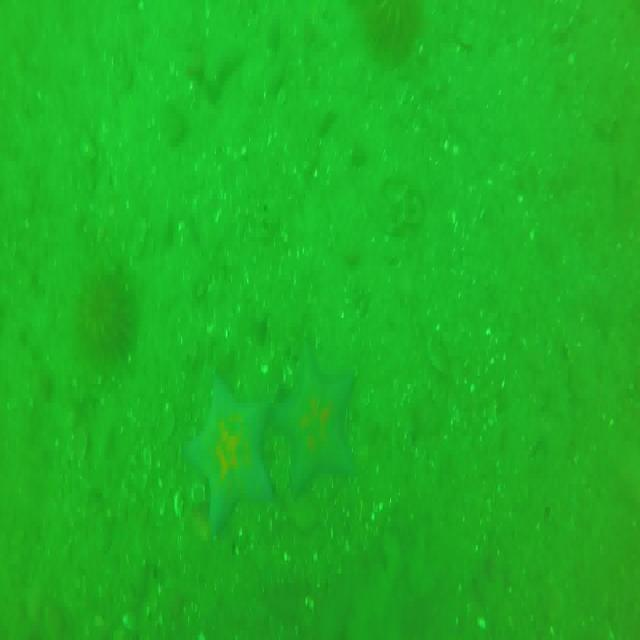echinus: (75, 263, 134, 363), (358, 0, 420, 62)
starfish: (187, 378, 275, 536), (274, 346, 354, 504)
